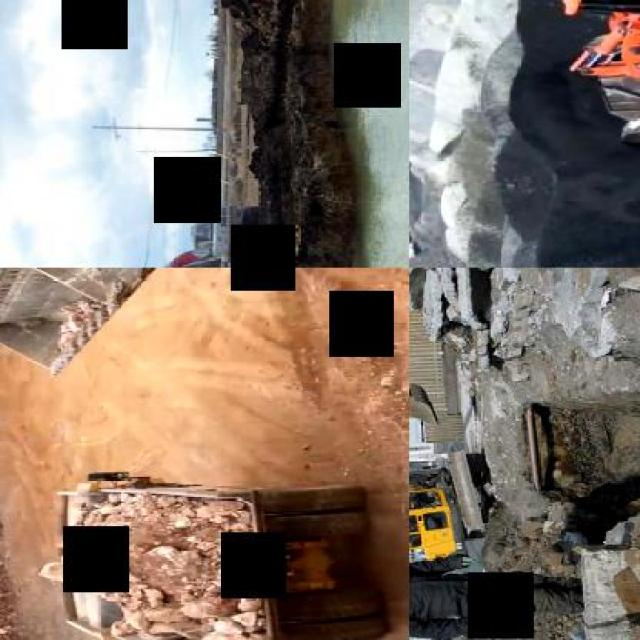buldozerpayloadergrader: (0, 268, 362, 377), (544, 0, 638, 158)
dump_truck: (29, 464, 397, 638)
excavator: (409, 383, 494, 565), (154, 205, 268, 266)
